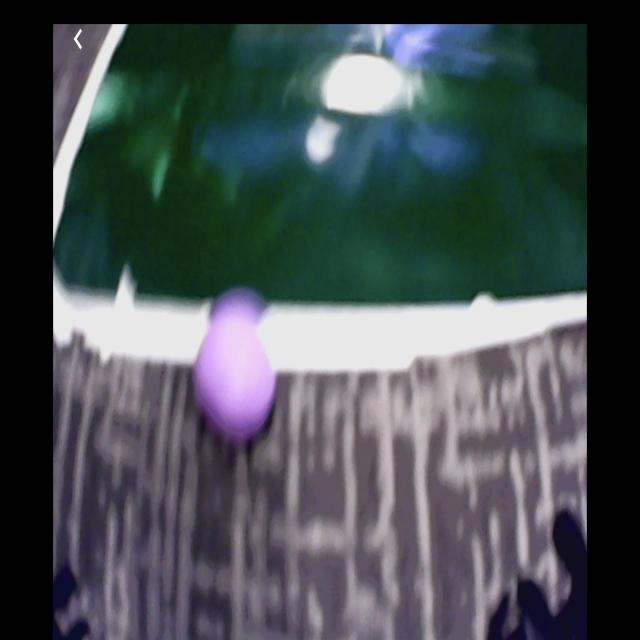ball: (194, 313, 278, 436)
